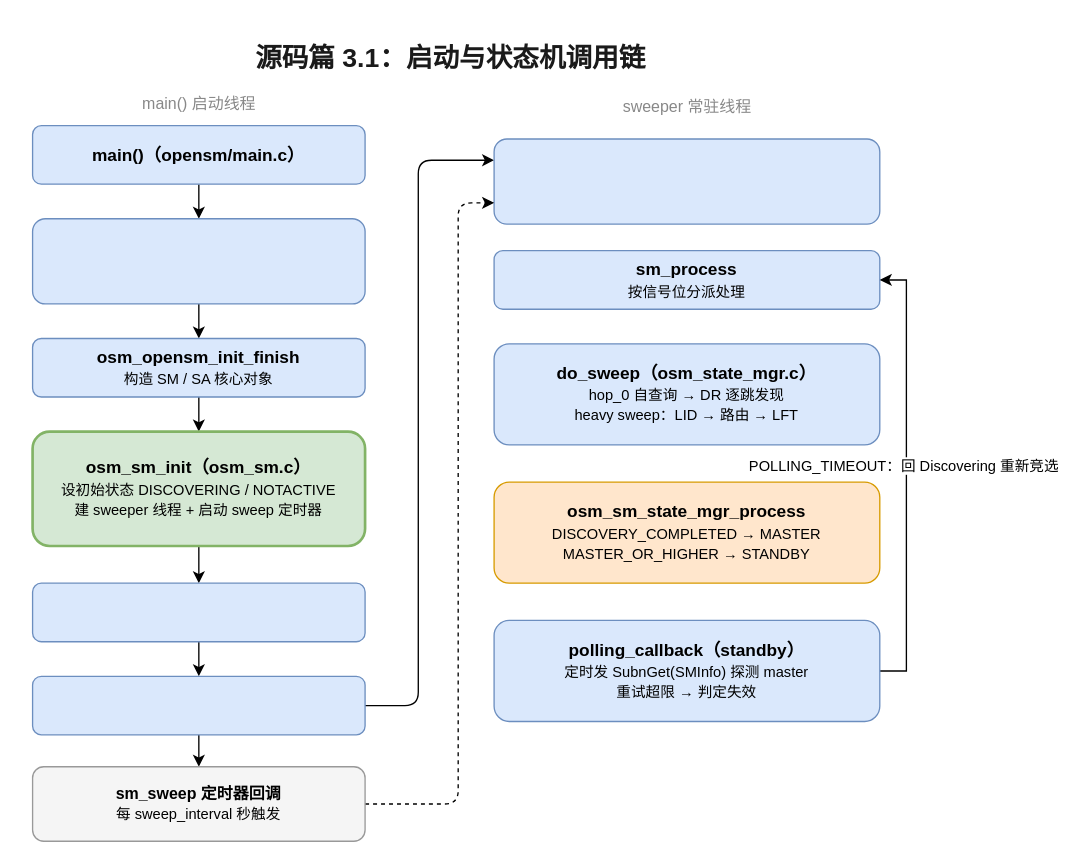
This 1081x865 diagram has some shape labels left out. The shapes that lost their labels are listed below. From the top down, each one's centre as x and y in pixels, then its label:
At [686,181]: "sm_sweeper（sweeper 线程） 阻塞等 signal_event，取出信号位".
At [198,260]: "osm_opensm_init 配置解析 · 子网对象 · libvendor".
At [198,612]: "osm_opensm_bind 绑定到本地端口".
At [198,705]: "osm_opensm_sweep 置 SWEEP 信号唤醒 sweeper".
